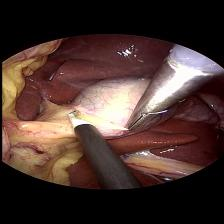Grasper: (118, 106, 168, 134), (64, 108, 92, 131)
